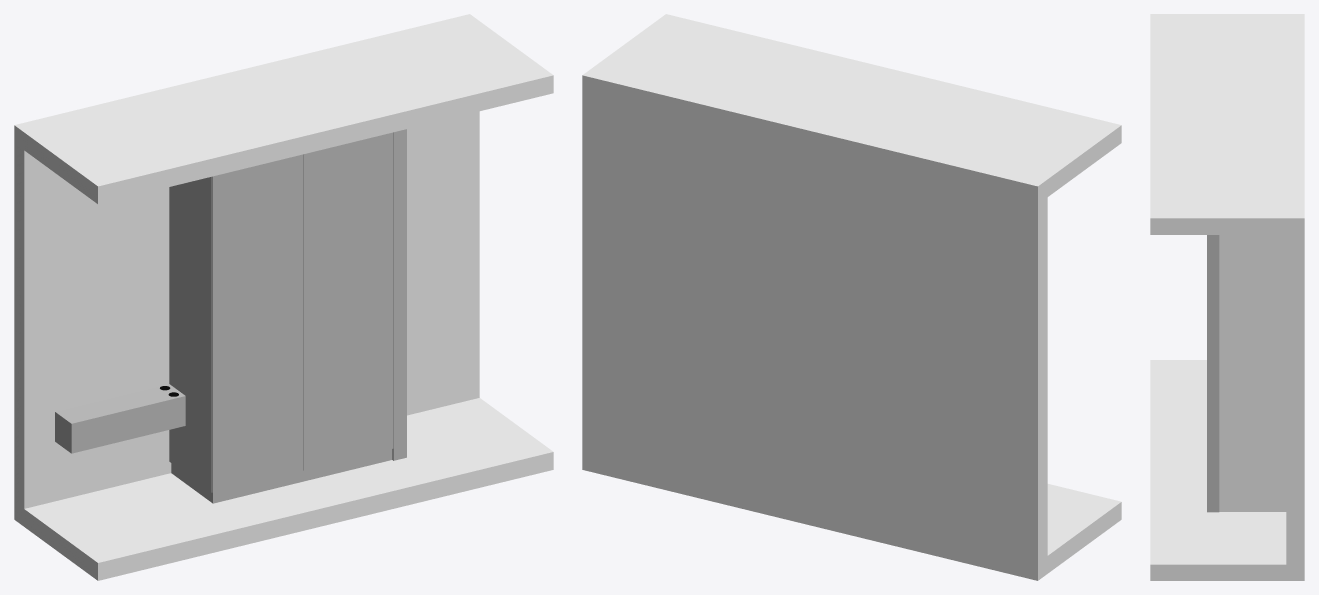
Rendered from Шкаф.dae.
3 views of the same model, side by side, from view 1: azimuth 30°, elevation 25°; view 2: azimuth 150°, elevation 25°; view 3: azimuth 270°, elevation 25° (orthographic). The views are drawn at different scales.
Visible parts, largest first — view 1: Горизонтальная1 (×2), Фронтальная1, Фасад (×3), Стойка лев., Накладка, Крыша, Цоколь; view 2: Фронтальная1, Горизонтальная1 (×2), Профиль1; view 3: Горизонтальная1 (×2), Профиль1, Фронтальная1, Декор, Накладка.
Part boxes in pixels (x1,y1,x2,y2): Горизонтальная1 (×2): [14, 14, 553, 580]; Фронтальная1: [14, 111, 479, 508]; Фасад (×3): [70, 132, 393, 492]; Стойка лев.: [169, 177, 211, 492]; Накладка: [392, 129, 406, 460]; Крыша: [55, 384, 185, 425]; Цоколь: [212, 449, 392, 503]; Фронтальная1: [582, 93, 1047, 562]; Горизонтальная1 (×2): [582, 14, 1121, 580]; Профиль1: [699, 122, 711, 481]; Горизонтальная1 (×2): [1150, 14, 1304, 580]; Профиль1: [1219, 235, 1286, 511]; Фронтальная1: [1286, 235, 1304, 564]; Декор: [1209, 235, 1219, 512]; Накладка: [1207, 235, 1208, 512].
Bounding box in the file's own units: 3989 × 1271 × 3300.
